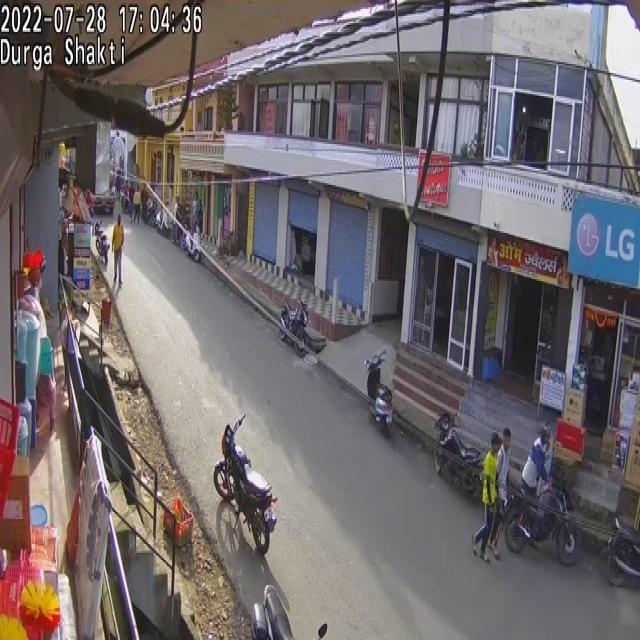non-fight: (473, 431, 501, 562), (523, 427, 552, 496), (112, 214, 125, 286), (190, 192, 199, 235), (174, 196, 183, 234), (133, 185, 141, 223)
